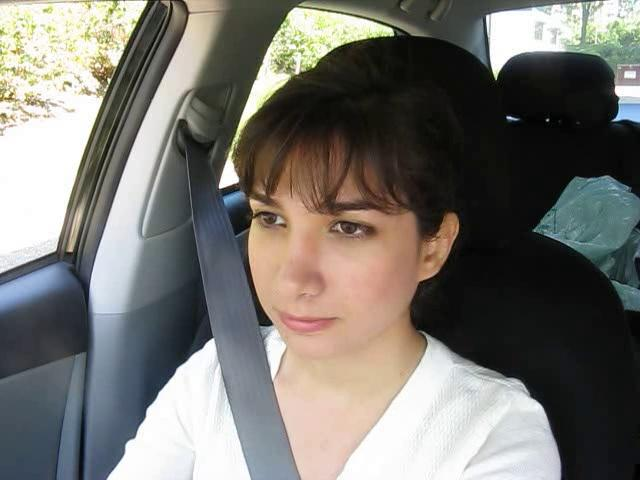no_yawn: (262, 301, 352, 345)
open_eyeL: (246, 202, 296, 237)
open_eyeR: (315, 209, 391, 248)
